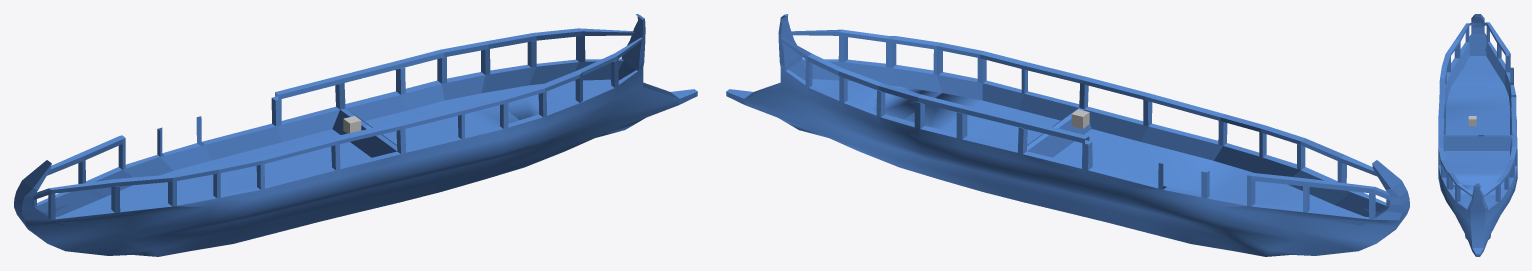
File: Lodka.obj
3 views of the same model, side by side, from view 1: azimuth 30°, elevation 25°; view 2: azimuth 150°, elevation 25°; view 3: azimuth 270°, elevation 25° (orthographic). The views are drawn at different scales.
Parts seen in each view (by area): view 1: Trirema.002; view 2: Trirema.002; view 3: Trirema.002, Cube.
Part boxes in pixels (box(x1,y1,x2,y2)): Trirema.002: box(14, 14, 697, 256); Trirema.002: box(726, 14, 1409, 256); Trirema.002: box(1438, 14, 1517, 256); Cube: box(1468, 116, 1476, 126).
Bounding box in the file's own units: 118 × 19.62 × 19.99.
